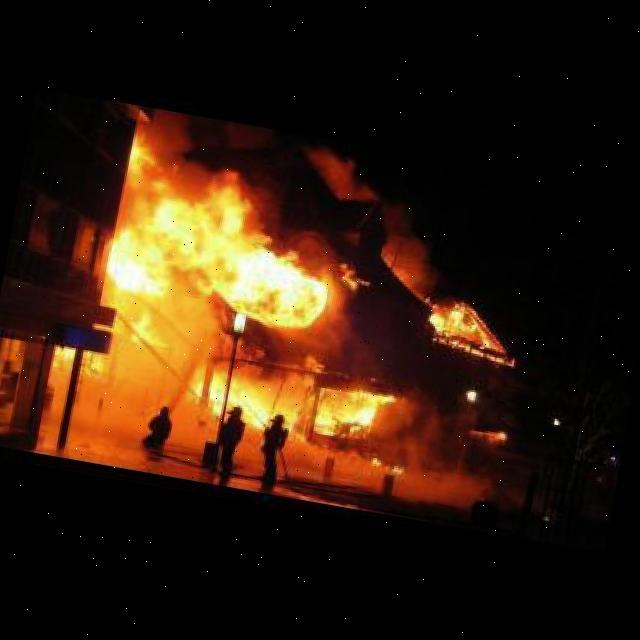fire: (68, 140, 512, 472)
